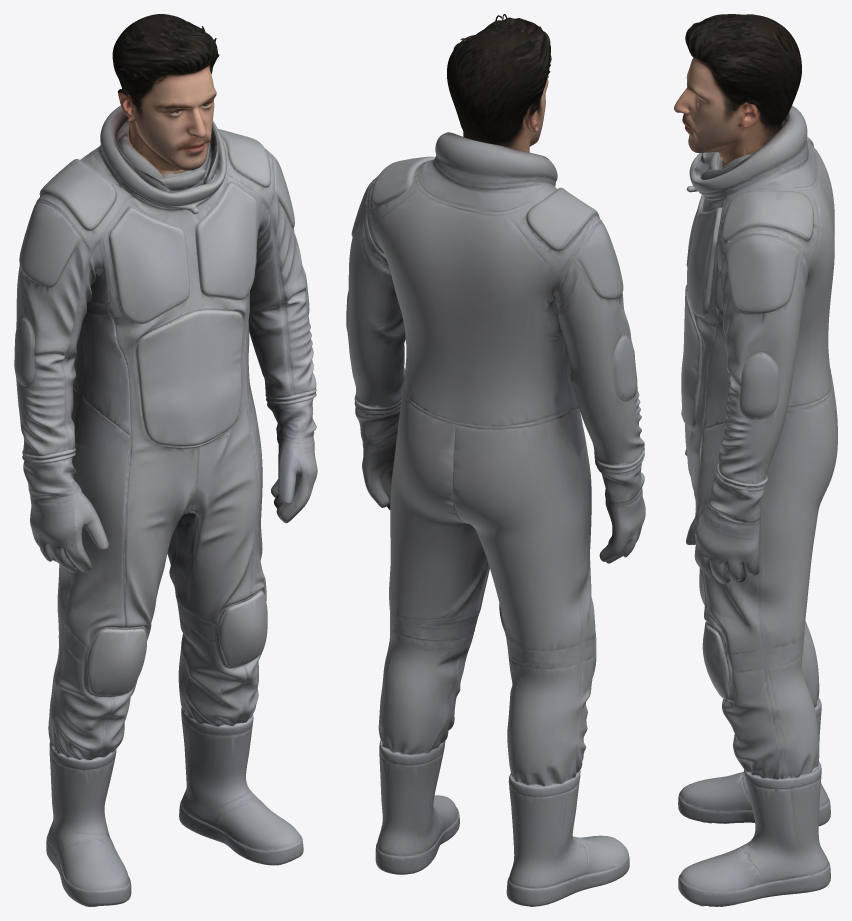
File: lucas-v2.glb
The picture shows the model from 3 angles, left to right: view 1: azimuth 30°, elevation 25°; view 2: azimuth 150°, elevation 25°; view 3: azimuth 270°, elevation 25°; orthographic projection.
Visible parts, largest first — view 1: node_0; view 2: node_0; view 3: node_0.
Boxes of the visible parts, x1,y1,x2,y2 form: node_0: [14, 14, 317, 906]; node_0: [346, 14, 645, 906]; node_0: [674, 14, 837, 906].
Size of the model in its own units: 0.4103 by 1.16 by 0.2054.
1 material, 1 textured.
